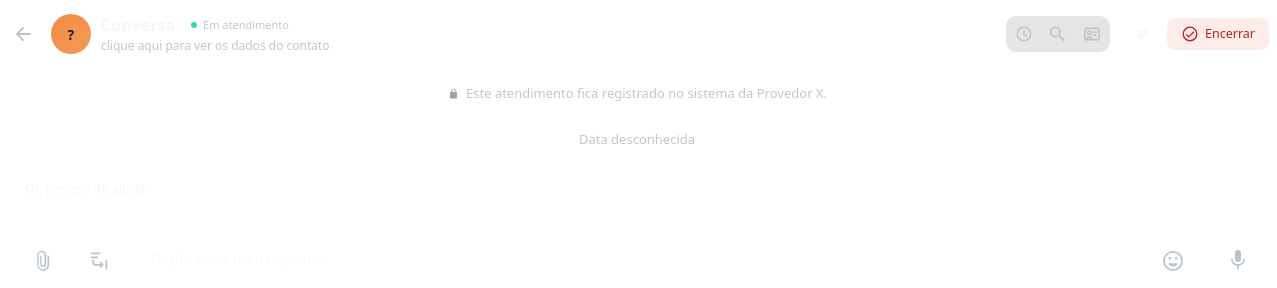
Test: SGP lookup panel › clicar em "Consultar SGP" abre o painel e consulta o documento vinculado; de novo, fecha
Click the button named "Consultar SGP": (1058, 34) [1042,18,1074,50]
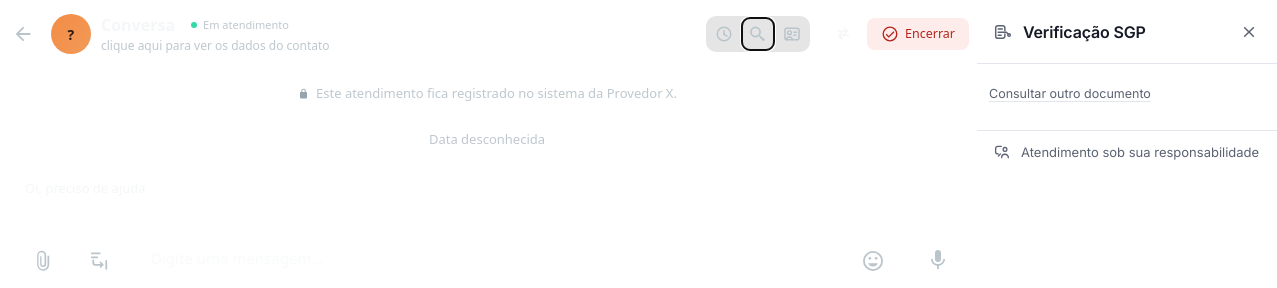
Check: the element named "Consulta SGP" is shown, box [977,0,1276,173]
Click the button named "Consultar SGP": (758, 34) [742,18,774,50]
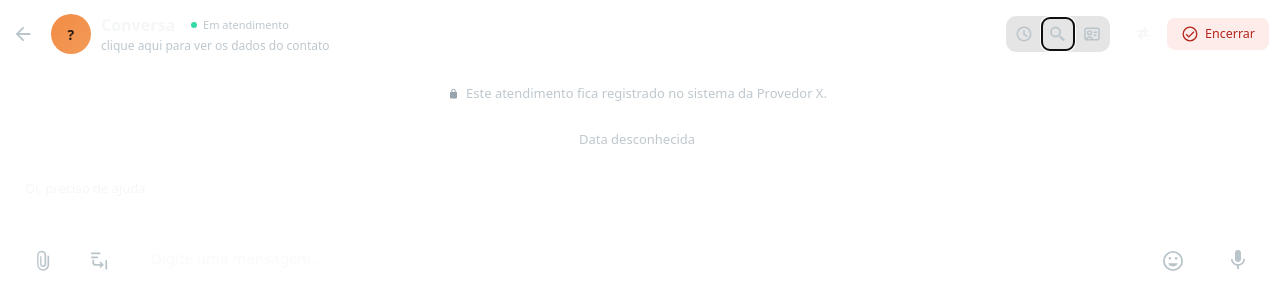
Check: the button "Consulta SGP" is gone
